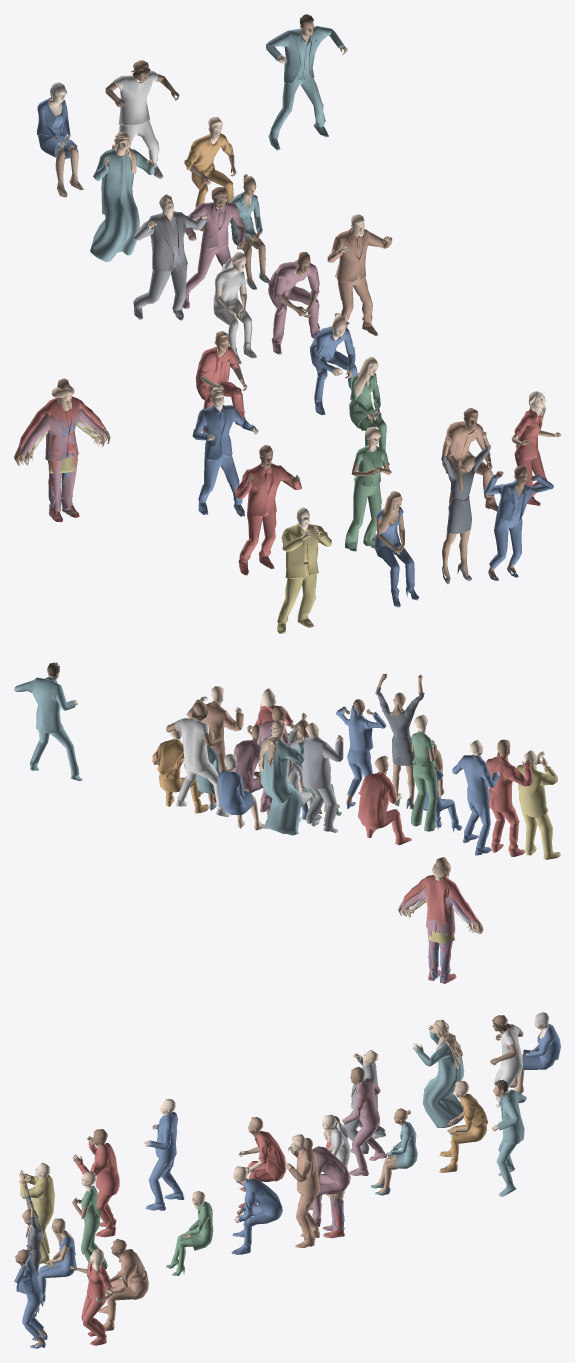
File: Crowd.glb
3 views of the same model, one above another, from view 1: azimuth 30°, elevation 25°; view 2: azimuth 150°, elevation 25°; view 3: azimuth 270°, elevation 25° (orthographic). The views are drawn at different scales.
Parts seen in each view (by area): view 1: stand_arman0004m4, stand_cman0009m4, stand_cman0017m4, stand_cman0202m4, stand_cman0016m4, stand_bman0308m4, stand_bman0306m4, stand_bwom0306m4, stand_cman0011m4, stand_cwom0201m4, sit_cman0200m4, stand_bwom0311m4 (+13 smaller); view 2: stand_arman0004m4, stand_cman0009m4, stand_cman0017m4, stand_cman0202m4, stand_cman0011m4, stand_cman0016m4, stand_bman0308m4, sit_cman0201m4, stand_bwom0311m4, stand_cwom0201m4, stand_bwom0306m4, stand_cman21065m4 (+12 smaller); view 3: stand_arman0004m4, stand_bman0310m4, stand_bman0308m4, stand_cman0202m4, stand_bman0306m4, sit_cman0204m4, stand_cman0017m4, sit_cman0203m4, sit_cman0205m4, stand_cwom0203m4, sit_cman0201m4, stand_bwom0306m4 (+11 smaller).
Part boxes in pixels (<box>): stand_arman0004m4: <box>90,131,155,262</box>; stand_cman0009m4: <box>133,194,208,320</box>; stand_cman0017m4: <box>266,14,347,150</box>; stand_cman0202m4: <box>235,445,301,575</box>; stand_cman0016m4: <box>277,507,331,633</box>; stand_bman0308m4: <box>192,387,258,516</box>; stand_bman0306m4: <box>327,214,392,335</box>; stand_bwom0306m4: <box>484,465,553,580</box>; stand_cman0011m4: <box>105,60,179,178</box>; stand_cwom0201m4: <box>345,426,391,551</box>; sit_cman0200m4: <box>268,252,319,354</box>; stand_bwom0311m4: <box>441,432,490,584</box>; stand_arman0004m4: <box>258,719,305,835</box>; stand_cman0009m4: <box>288,722,343,832</box>; stand_cman0017m4: <box>14,662,82,780</box>; stand_cman0202m4: <box>485,739,533,856</box>; stand_cman0011m4: <box>166,702,230,817</box>; stand_cman0016m4: <box>517,750,560,859</box>; stand_bman0308m4: <box>452,740,499,855</box>; sit_cman0201m4: <box>358,755,411,845</box>; stand_bwom0311m4: <box>375,673,424,809</box>; stand_cwom0201m4: <box>411,714,437,831</box>; stand_bwom0306m4: <box>335,699,386,808</box>; stand_cman21065m4: <box>398,857,483,983</box>; stand_arman0004m4: <box>412,1020,464,1127</box>; stand_bman0310m4: <box>342,1067,386,1175</box>; stand_bman0308m4: <box>144,1099,184,1210</box>; stand_cman0202m4: <box>72,1129,119,1237</box>; stand_bman0306m4: <box>285,1134,319,1247</box>; sit_cman0204m4: <box>231,1166,282,1254</box>; stand_cman0017m4: <box>492,1080,526,1196</box>; sit_cman0203m4: <box>98,1239,148,1331</box>; sit_cman0205m4: <box>439,1081,487,1172</box>; stand_cwom0203m4: <box>70,1248,113,1345</box>; sit_cman0201m4: <box>238,1117,286,1208</box>; stand_bwom0306m4: <box>14,1245,47,1348</box>.
Size of the model in its own units: 618 by 480 by 804.
